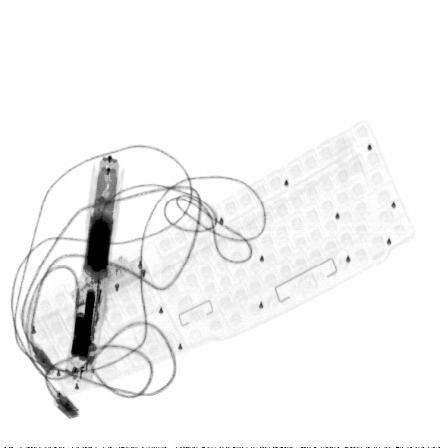Baton: (62, 150, 125, 390)
